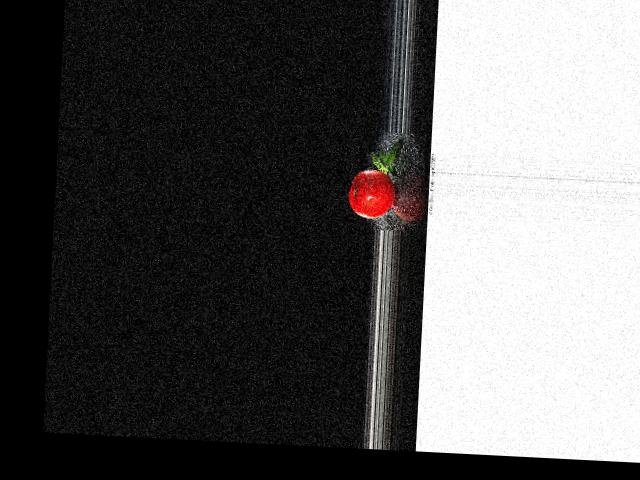tomato: (347, 168, 395, 219)
